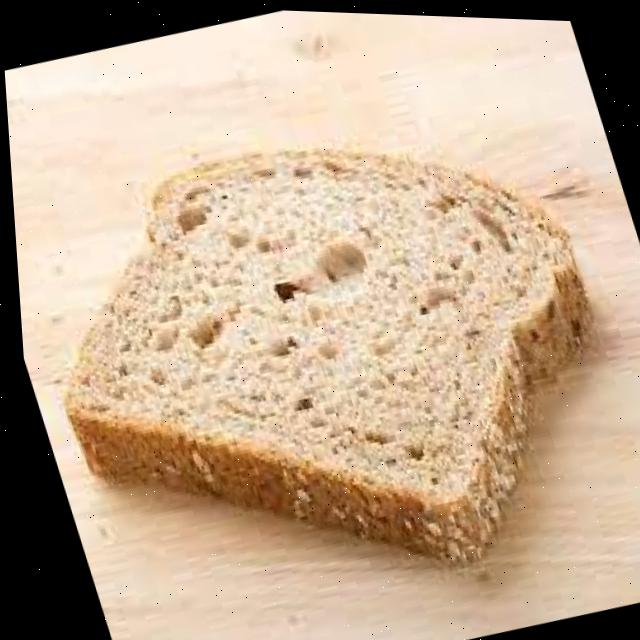Bread: (61, 148, 587, 559)
